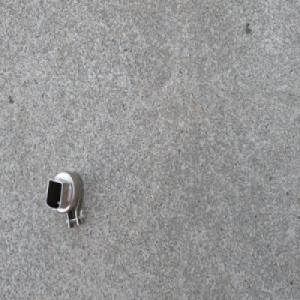MetalPart: (44, 168, 86, 231)
